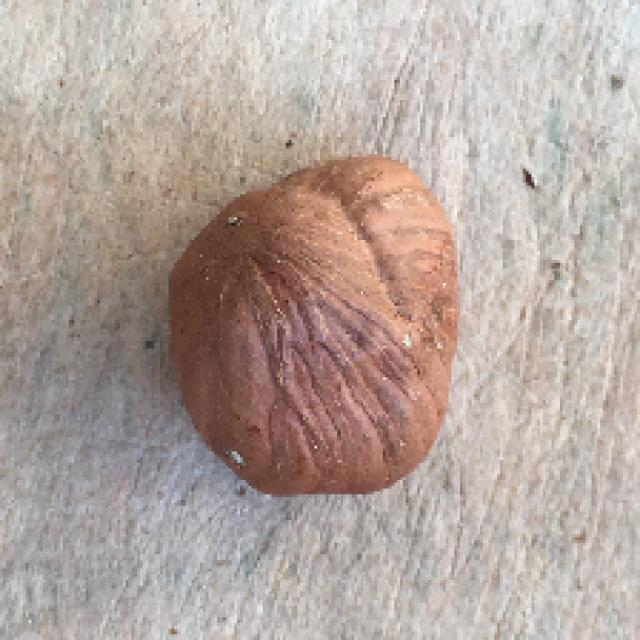hazelnut: (165, 149, 470, 505)
